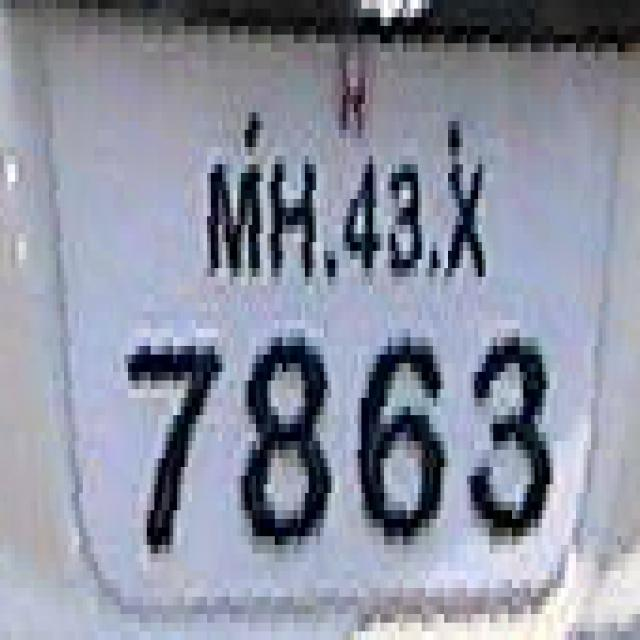license_plate: (38, 34, 636, 606)
